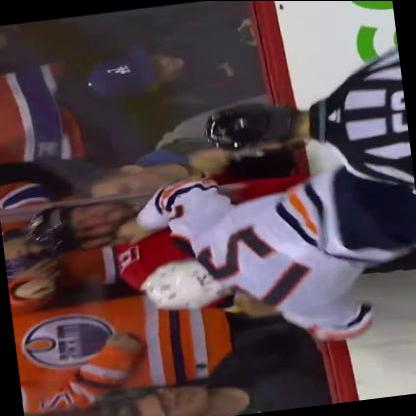voilence: (21, 158, 400, 376)
